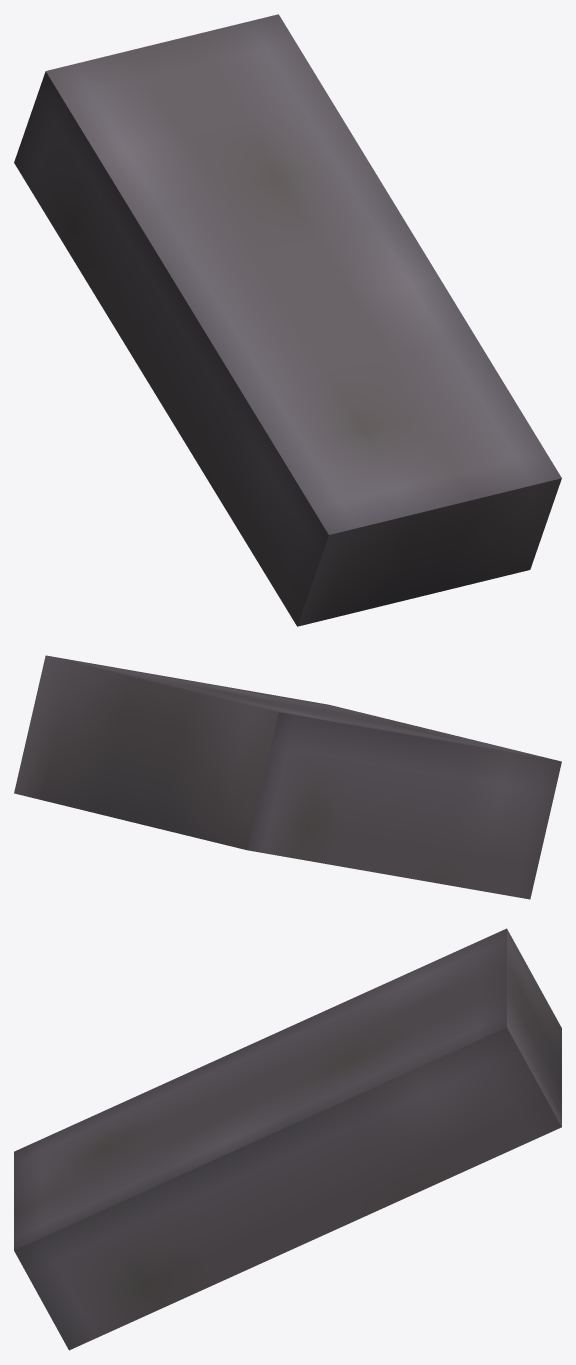
File: angle_stone_type_02_purple.fbx
The picture shows the model from 3 angles, top to bottom: view 1: azimuth 30°, elevation 25°; view 2: azimuth 150°, elevation 25°; view 3: azimuth 270°, elevation 25°; orthographic projection. The views are drawn at different scales.
Parts seen in each view (by area): view 1: angle_stone_type_02_purple; view 2: angle_stone_type_02_purple; view 3: angle_stone_type_02_purple.
Boxes of the visible parts, left/top/right/bottom form: angle_stone_type_02_purple: left=14, top=14, right=561, bottom=626; angle_stone_type_02_purple: left=14, top=655, right=561, bottom=899; angle_stone_type_02_purple: left=14, top=928, right=561, bottom=1350.
Size of the model in its own units: 3.8 by 5.79 by 8.89.
